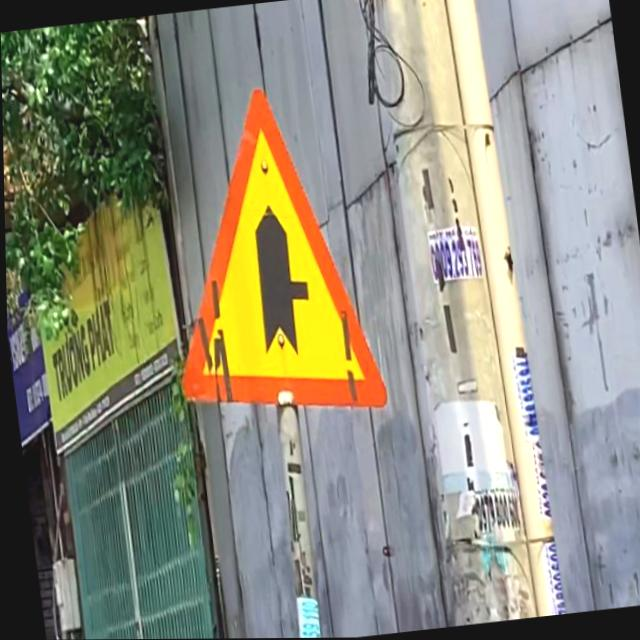Giao nhau voi duong khong uu tien ben phai: (127, 57, 400, 450)
